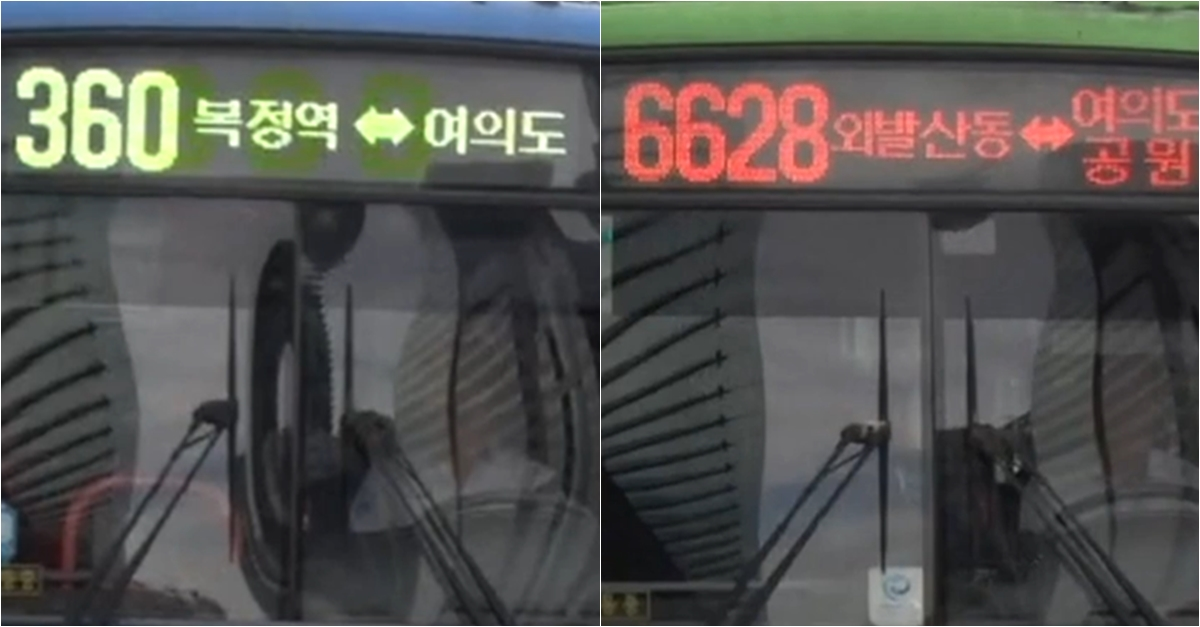bnum: (617, 70, 835, 186)
